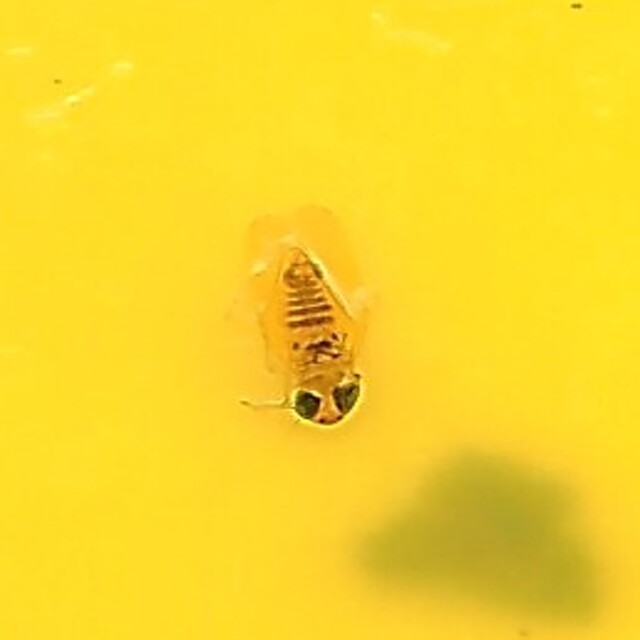Hemiptera: (248, 204, 392, 436)
